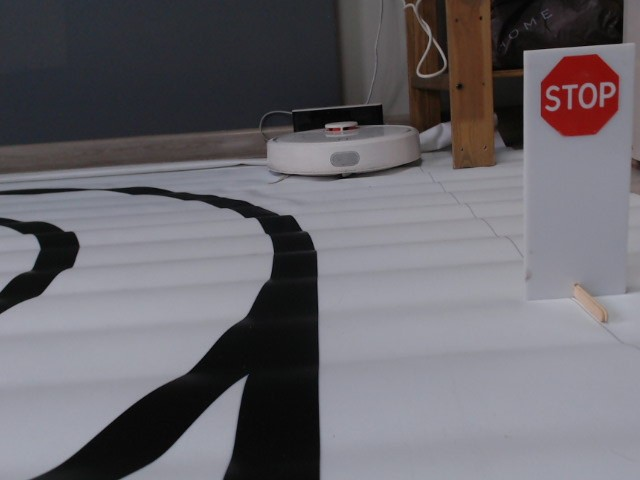Stop: (537, 52, 622, 139)
